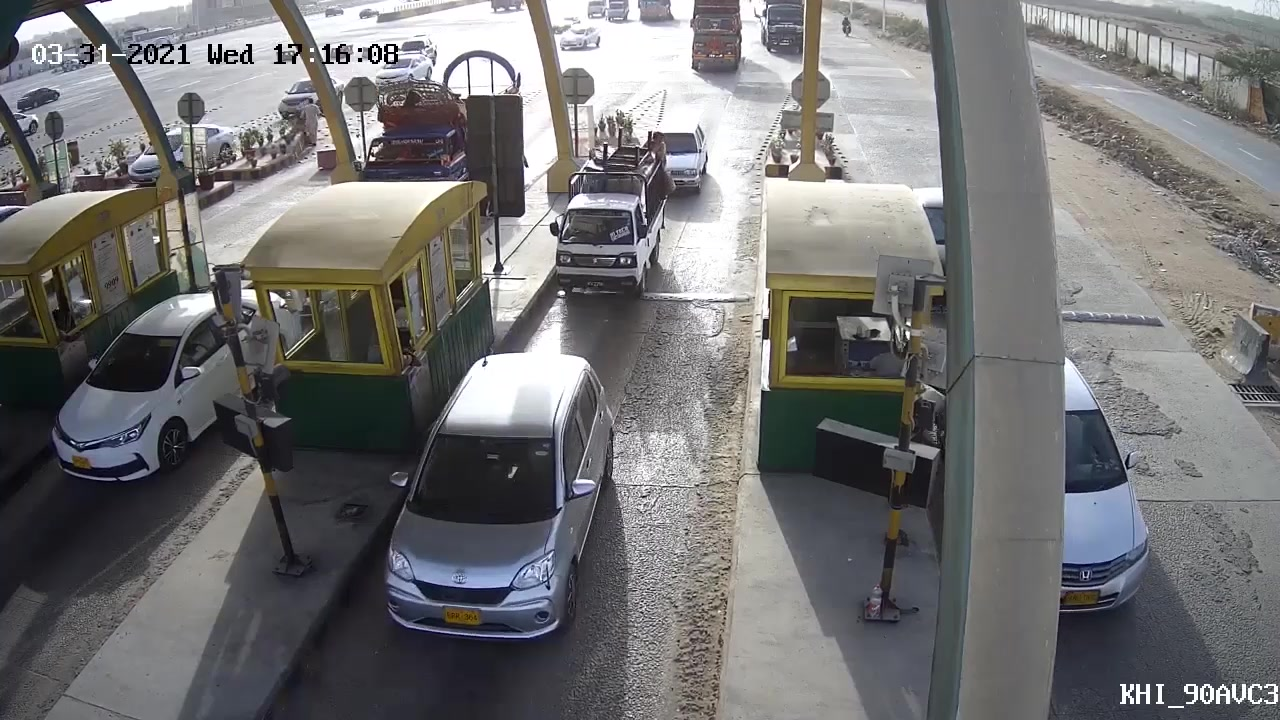F1: (376, 344, 626, 648), (553, 136, 671, 302)
